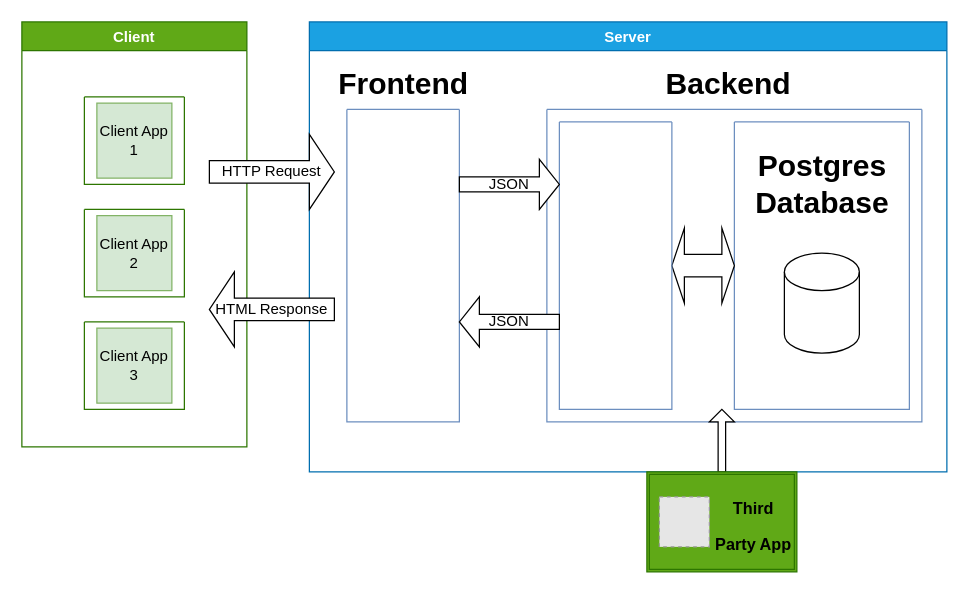
Some shapes in this 969 by 594 pixel diagram are drawn without their labels. Grey dashed boxes stand in for pictures. Each missing label, with the box of its shape:
API Web Service: (558, 121, 672, 409)
Presentation Layer: (346, 108, 459, 422)
